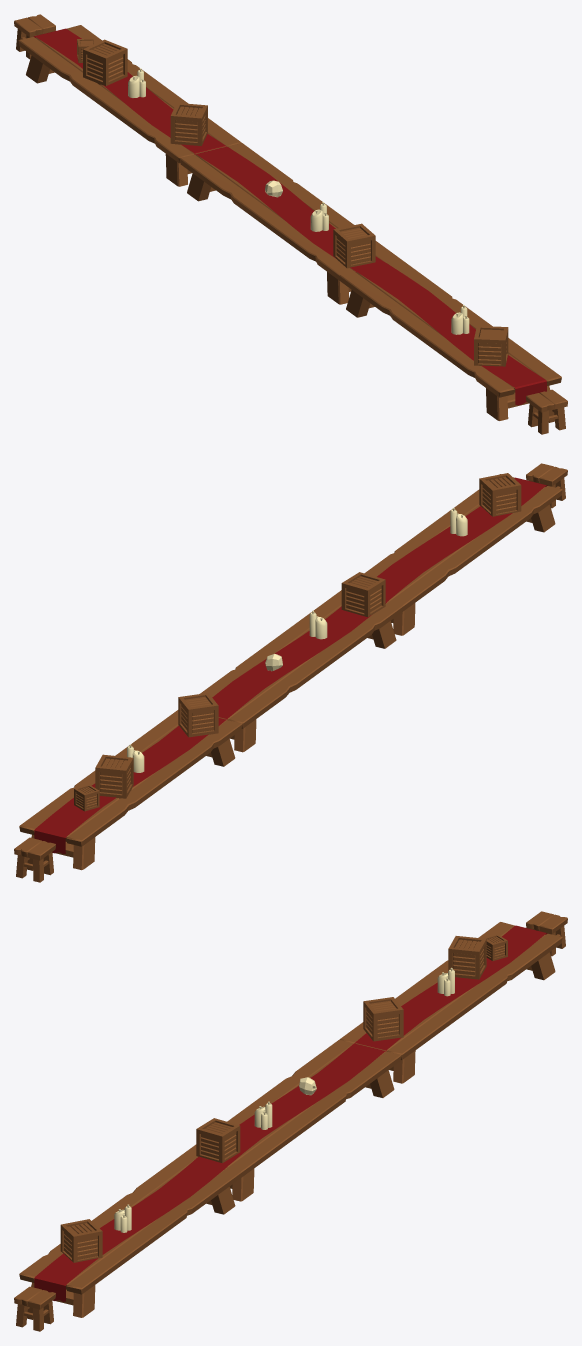
File: decor10.fbx
The picture shows the model from 3 angles, top to bottom: view 1: azimuth 30°, elevation 25°; view 2: azimuth 150°, elevation 25°; view 3: azimuth 330°, elevation 25°; orthographic projection.
Parts seen in each view (by area): view 1: table_small.053, table_small.013, table_small.018, table_small.011, table_small.010; view 2: table_small.053, table_small.018, table_small.011, table_small.010, table_small.013, table_small.014; view 3: table_small.053, table_small.018, table_small.011, table_small.010, table_small.013.
Part boxes in pixels (bbox=[...]): table_small.053: bbox=[14, 14, 567, 434]; table_small.013: bbox=[83, 39, 127, 85]; table_small.018: bbox=[333, 223, 375, 268]; table_small.011: bbox=[170, 102, 207, 145]; table_small.010: bbox=[474, 326, 508, 366]; table_small.053: bbox=[14, 463, 567, 882]; table_small.018: bbox=[341, 572, 385, 617]; table_small.011: bbox=[178, 693, 218, 737]; table_small.010: bbox=[479, 473, 521, 516]; table_small.013: bbox=[95, 754, 133, 798]; table_small.014: bbox=[74, 784, 99, 811]; table_small.053: bbox=[14, 911, 567, 1331]; table_small.018: bbox=[196, 1118, 240, 1163]; table_small.011: bbox=[363, 997, 403, 1041]; table_small.010: bbox=[60, 1219, 102, 1262]; table_small.013: bbox=[448, 936, 486, 979].
Bounding box in the file's own units: 377 × 347 × 5465.
